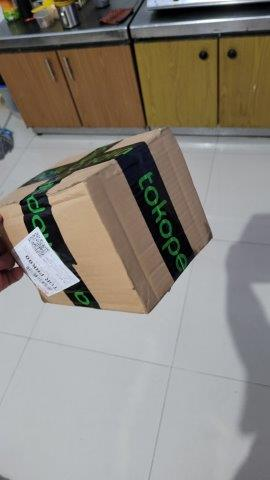kardus: (1, 126, 214, 314)
